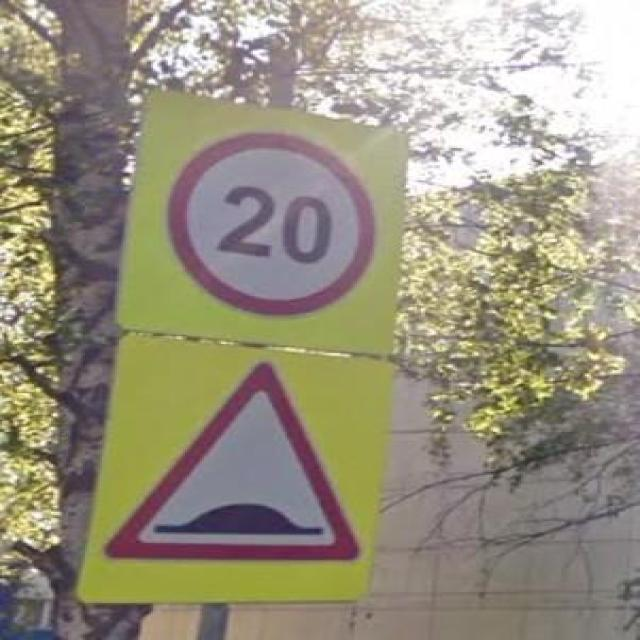forb_speed_over_20: (164, 130, 381, 319)
